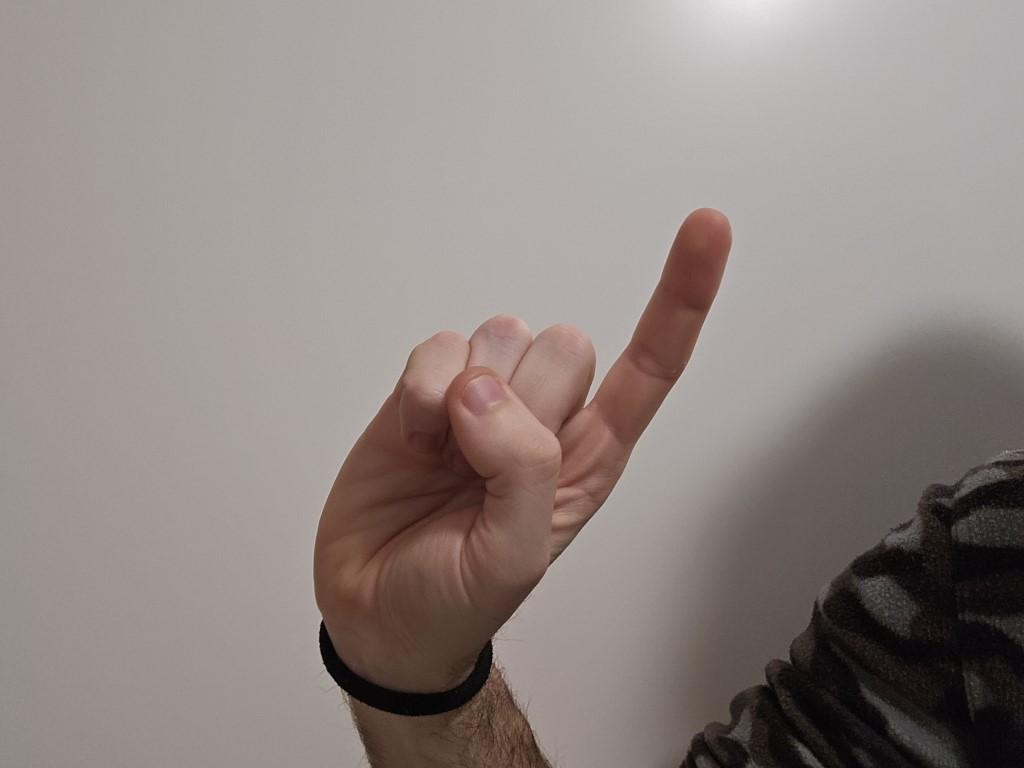z: (281, 201, 747, 644)
